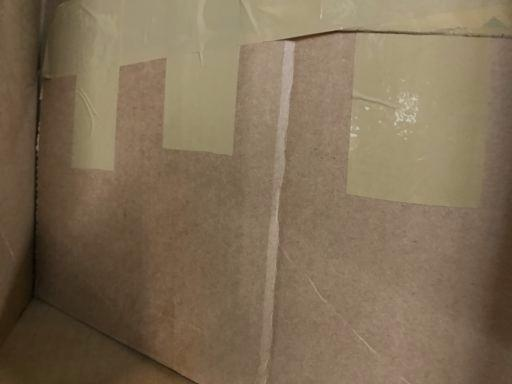cardboard: (0, 5, 512, 382)
